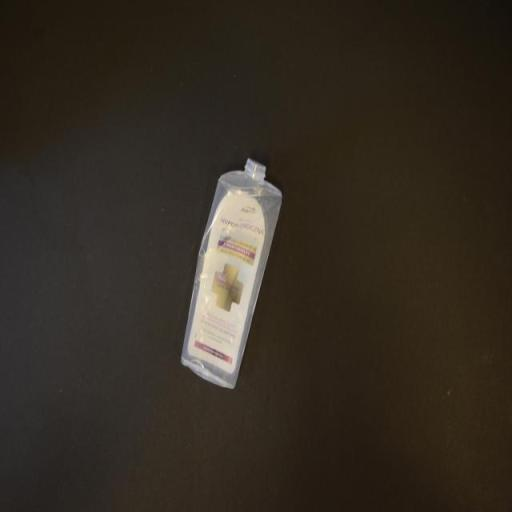plastic: (178, 158, 284, 393)
